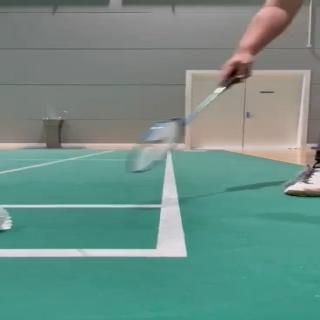Shuttle: (0, 207, 13, 231)
